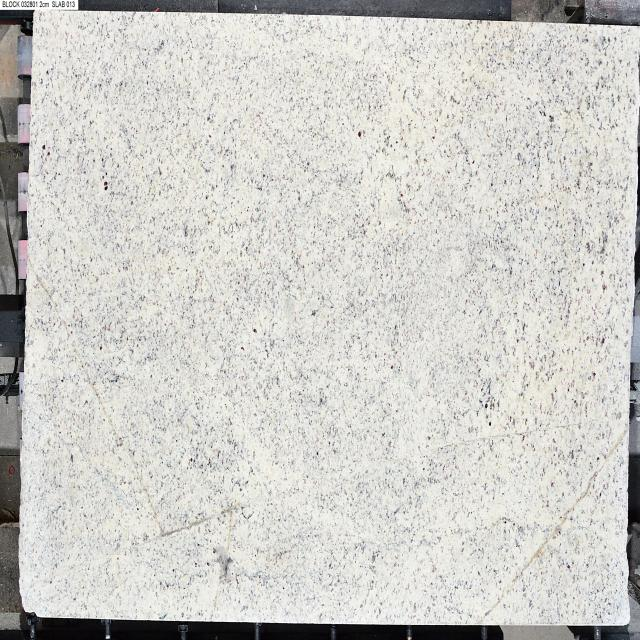chapa: (20, 13, 640, 624)
